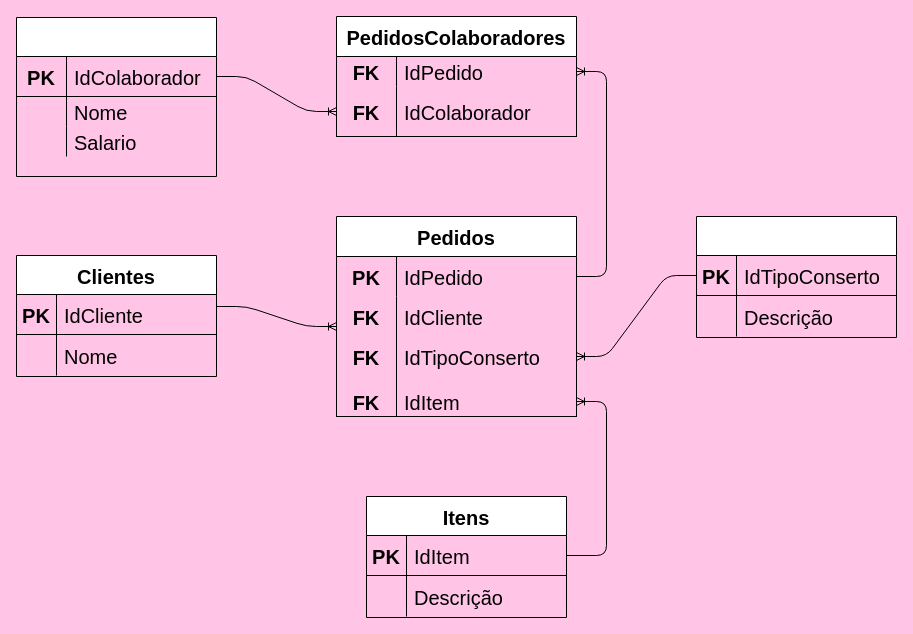
This 913x634 diagram has some shape labels left out. The box of each missing label's shape, as (x1, y1, x2, y2) in pixels:
Colaboradores: (16, 16, 216, 176)
TiposConsertos: (696, 216, 896, 338)
